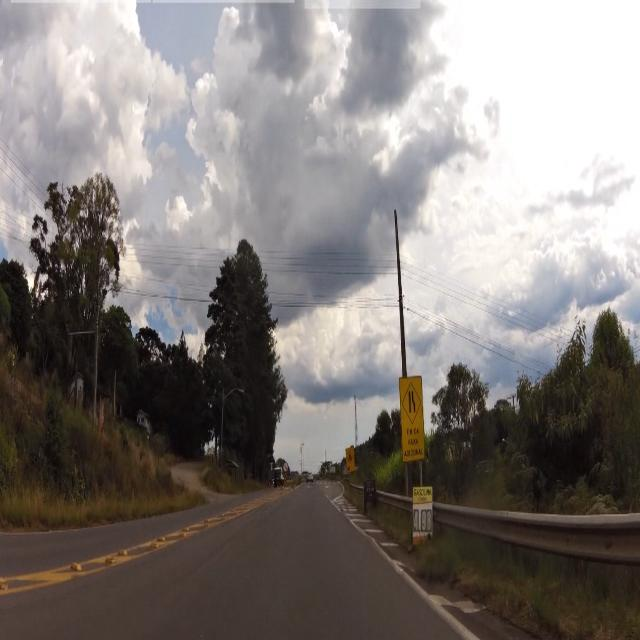A-21c: (401, 384, 422, 425)
